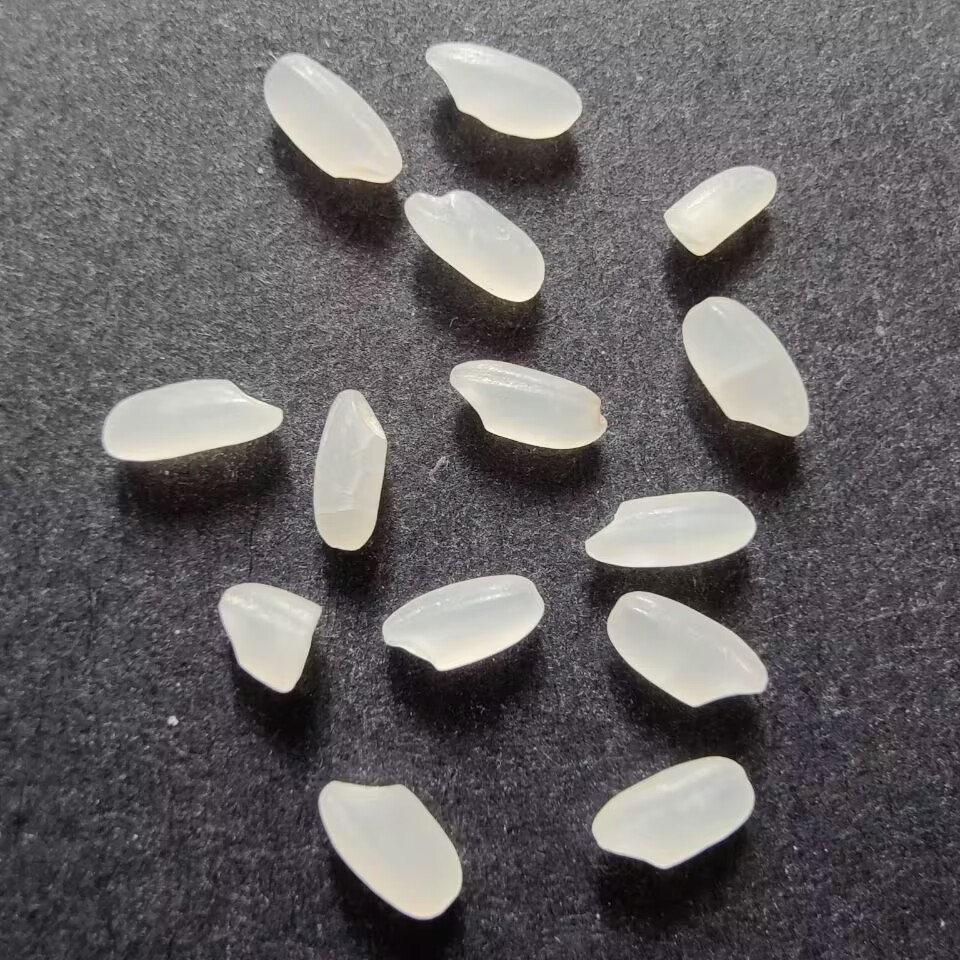broken: (214, 579, 332, 699), (659, 161, 783, 262)
rice: (315, 774, 468, 925), (601, 586, 773, 716), (676, 288, 813, 442), (259, 49, 406, 189), (586, 751, 756, 872), (96, 370, 291, 468), (399, 183, 545, 305), (378, 570, 547, 674), (421, 39, 587, 143), (443, 357, 610, 451), (577, 487, 761, 572), (309, 382, 391, 555)
